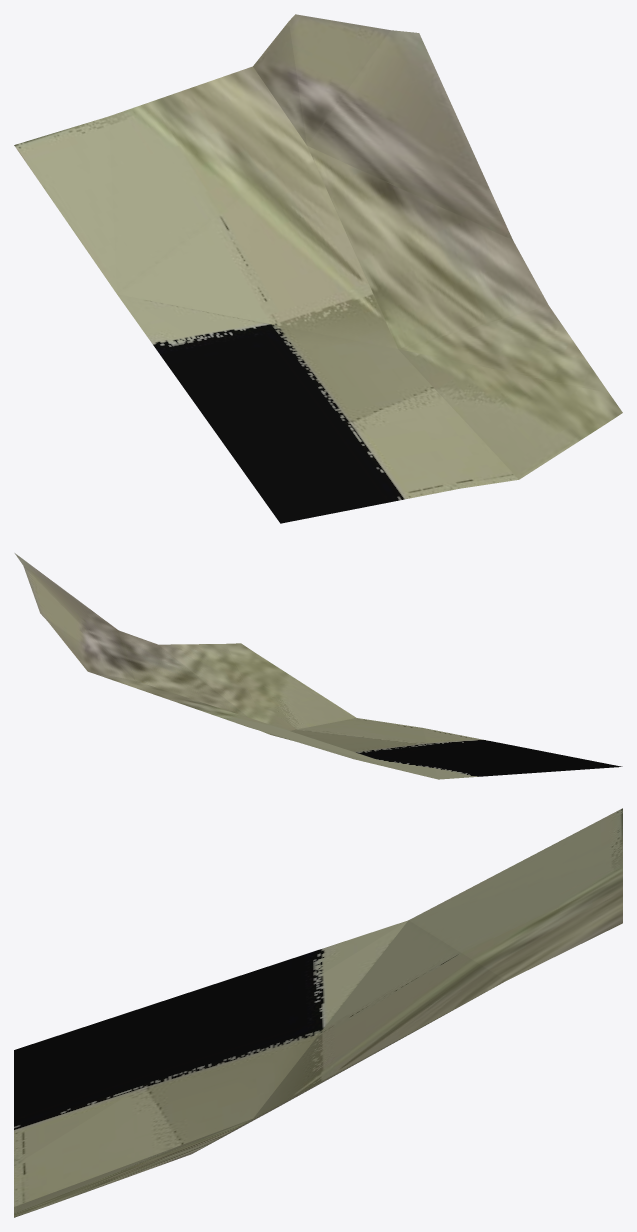
3 renders of one model, top to bottom at view 1: azimuth 30°, elevation 25°; view 2: azimuth 150°, elevation 25°; view 3: azimuth 270°, elevation 25°, orthographic. The views are drawn at different scales.
Size of the model in its own units: 4.76 by 3.49 by 5.9.
Materials: 2 (2 with a texture image).
